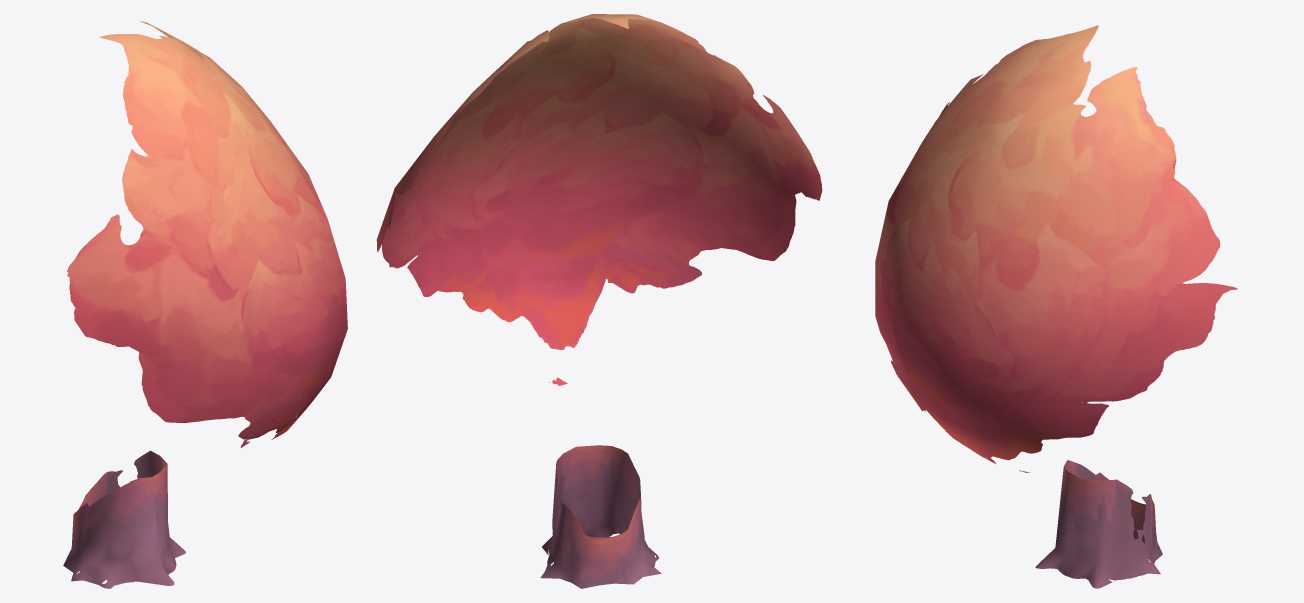
The model's file is SM_Tree_01.fbx.
3 renders of one model, left to right at view 1: azimuth 30°, elevation 25°; view 2: azimuth 150°, elevation 25°; view 3: azimuth 270°, elevation 25°, orthographic. The views are drawn at different scales.
Visible parts, largest first — view 1: SM_Tree_M_01; view 2: SM_Tree_M_01; view 3: SM_Tree_M_01.
Part boxes in pixels (<box>): SM_Tree_M_01: <box>63,21,347,588</box>; SM_Tree_M_01: <box>376,14,822,588</box>; SM_Tree_M_01: <box>875,25,1237,588</box>.
Bounding box in the file's own units: 672 × 945 × 677.
Materials: 1 (1 with a texture image).
